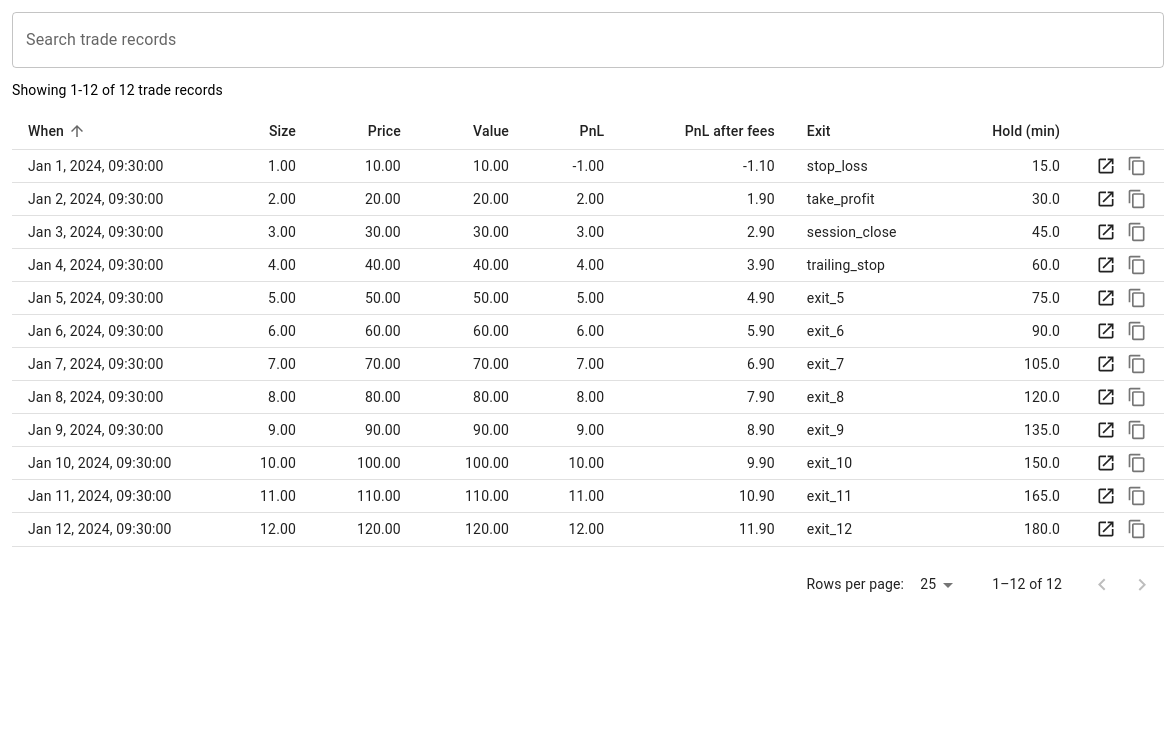
Test: BacktestTradeRecordsTable › copies a replay debug launch configuration for a trade
Step 1. Click the button named "copy replay debug config" in the row of "Jan 1, 2024, 09:30:00" → x=1137, y=166, box [1122,151,1152,181]
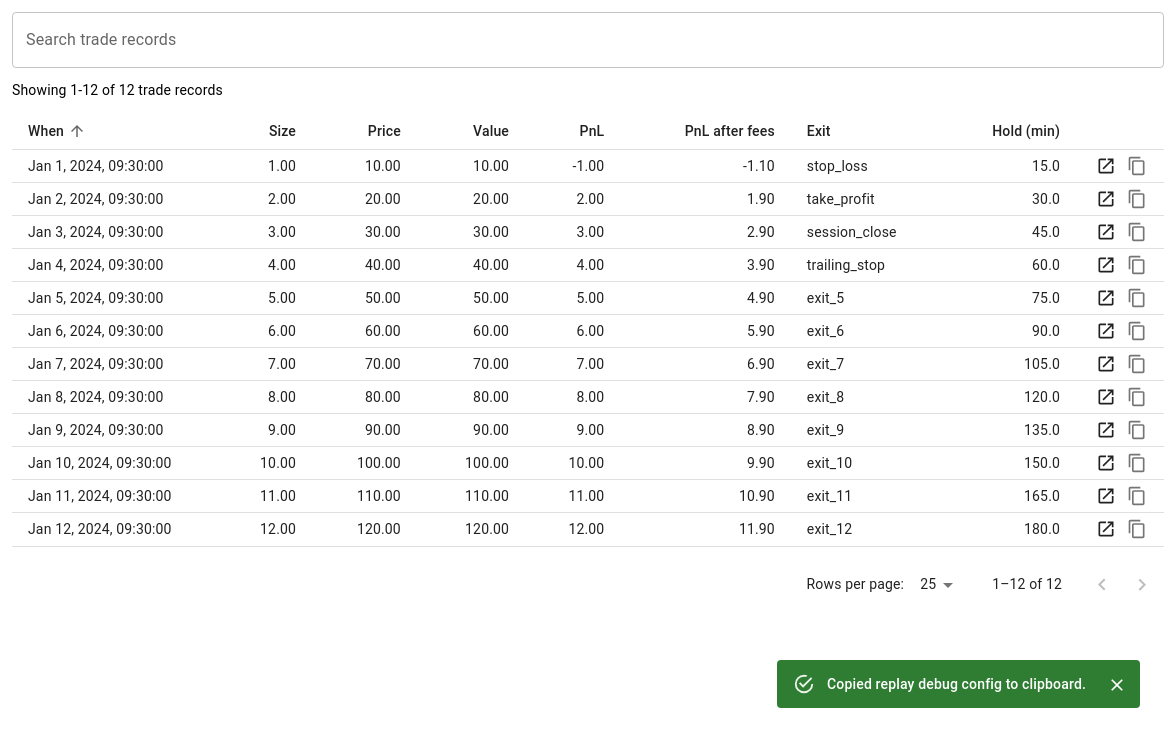
Check: the text "Copied replay debug config to clipboard." is shown, box [827,676,1086,692]
